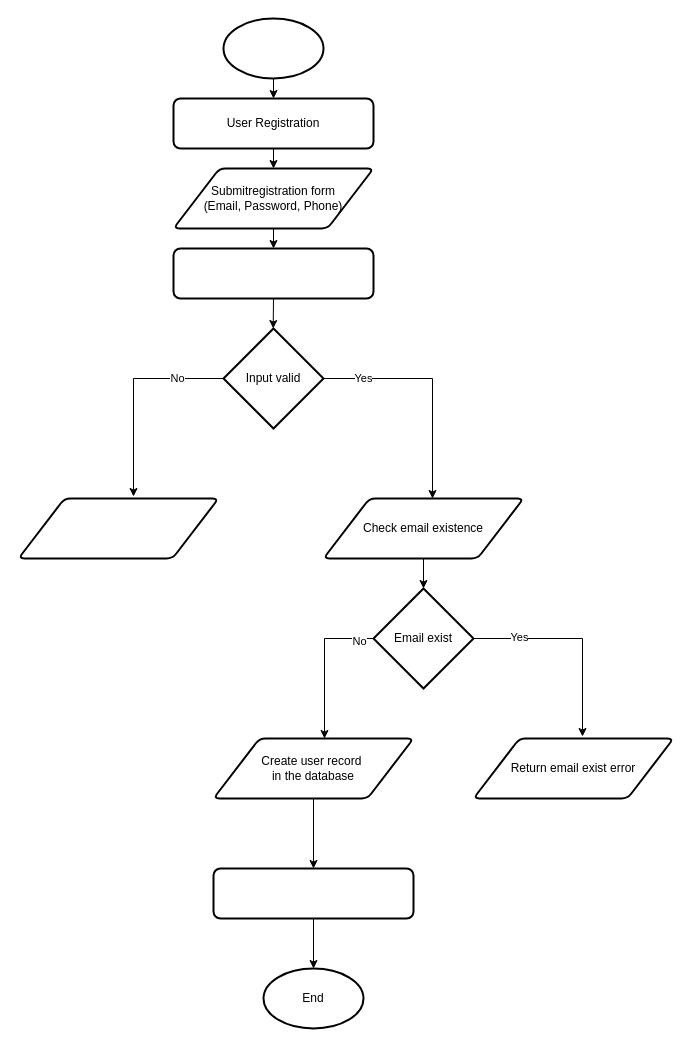
Image size: 691x1046. Some labels were removed from this diagram. The box of each missing label's shape, as (x1, y1, x2, y2) in pixels:
Return success message: (212, 867, 414, 919)
Return validation error: (17, 497, 219, 559)
Start: (222, 17, 324, 79)
Validate input data (Email, Password, Name, Phone): (172, 247, 374, 299)
